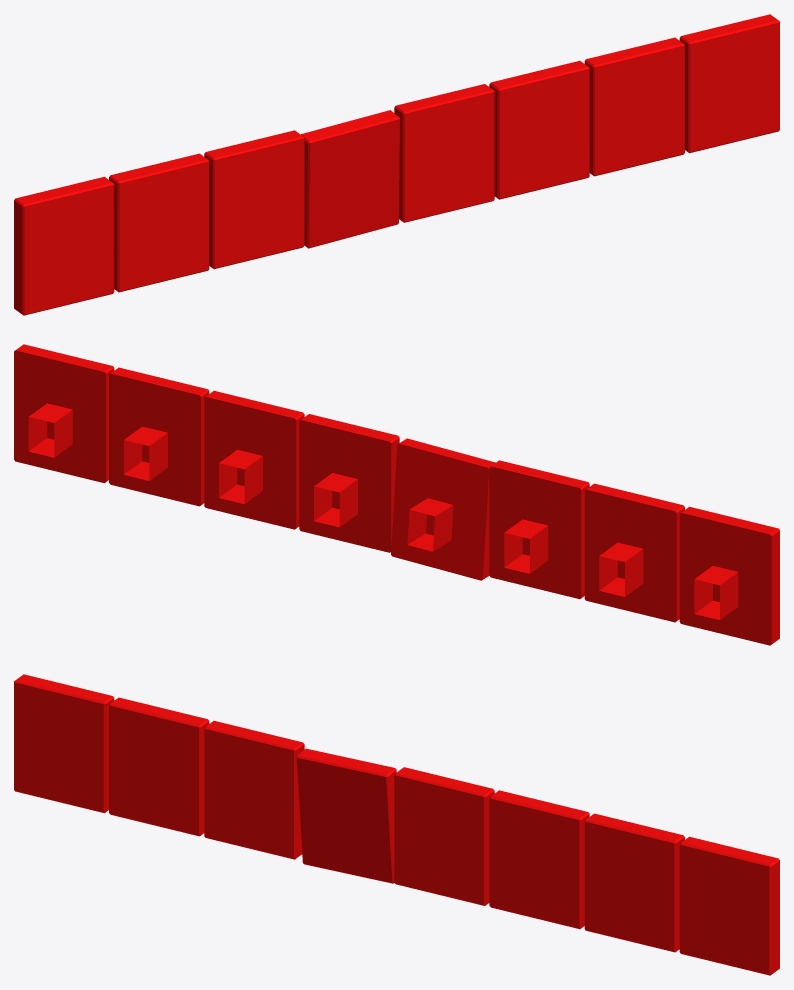
The model's file is Sign_Groceries_RUS_01_001.fbx.
3 views of the same model, one above another, from view 1: azimuth 30°, elevation 25°; view 2: azimuth 150°, elevation 25°; view 3: azimuth 330°, elevation 25° (orthographic).
Parts seen in each view (by area): view 1: Sign_Groceries_RUS_01_001; view 2: Sign_Groceries_RUS_01_001; view 3: Sign_Groceries_RUS_01_001.
Part boxes in pixels (x1,y1,x2,y2): Sign_Groceries_RUS_01_001: [14, 14, 779, 315]; Sign_Groceries_RUS_01_001: [14, 344, 779, 645]; Sign_Groceries_RUS_01_001: [14, 674, 779, 975].
Size of the model in its own units: 456 by 66.43 by 31.5.
